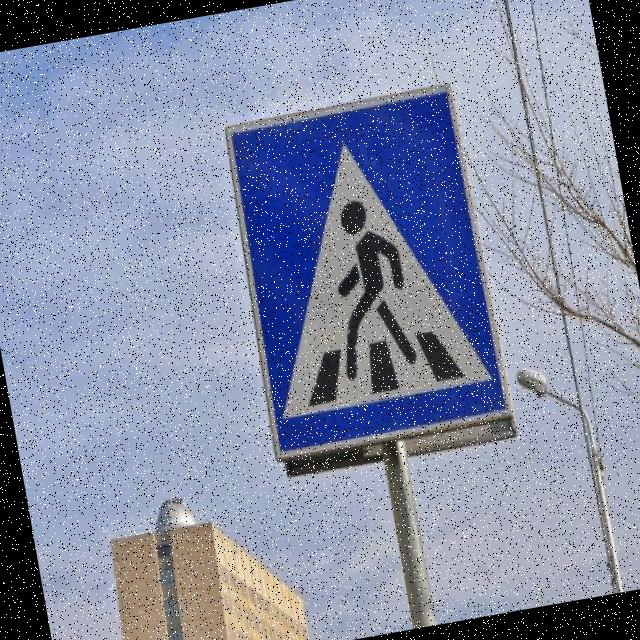crosswalk: (196, 64, 522, 490)
